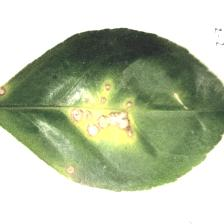canker: (49, 77, 144, 141)
